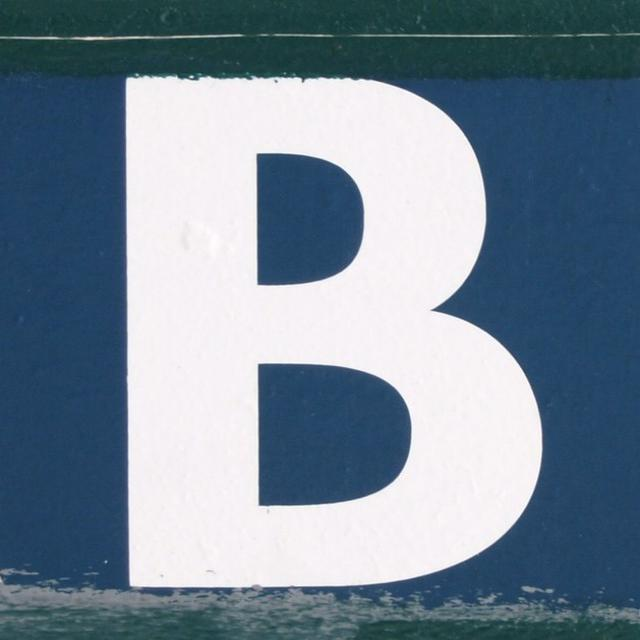B: (65, 73, 564, 615)
